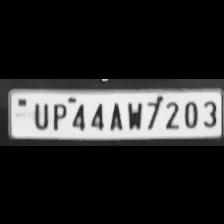0: (180, 98, 200, 128)
2: (160, 97, 180, 128)
3: (200, 96, 218, 128)
4: (68, 98, 88, 130), (87, 98, 105, 130)
7: (143, 97, 161, 129)
A: (106, 98, 122, 130)
P: (48, 100, 68, 128)
U: (30, 99, 50, 129)
W: (122, 96, 144, 130)
